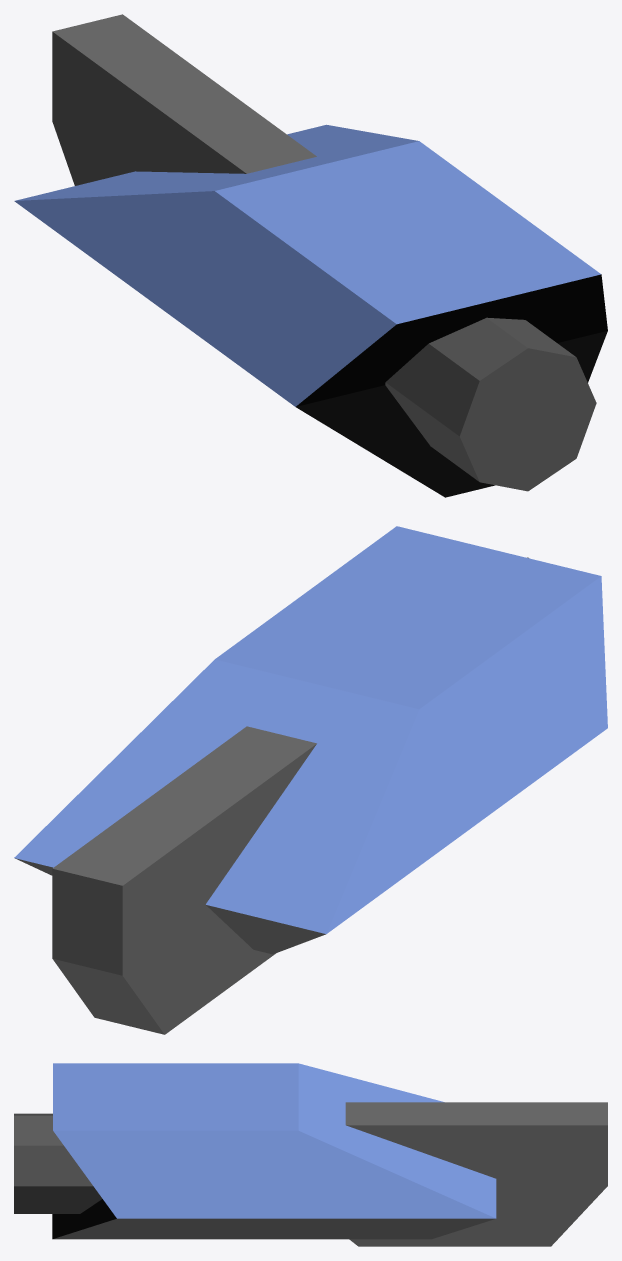
File: gun.glb
3 renders of one model, top to bottom at view 1: azimuth 30°, elevation 25°; view 2: azimuth 150°, elevation 25°; view 3: azimuth 270°, elevation 25°, orthographic. The views are drawn at different scales.
Parts seen in each view (by area): view 1: Plane; view 2: Plane; view 3: Plane.
Boxes of the visible parts, x1,y1,x2,y2 form: Plane: [14, 14, 607, 497]; Plane: [14, 526, 607, 1034]; Plane: [14, 1063, 607, 1246].
Size of the model in its own units: 0.9355 by 0.5857 by 2.28.
